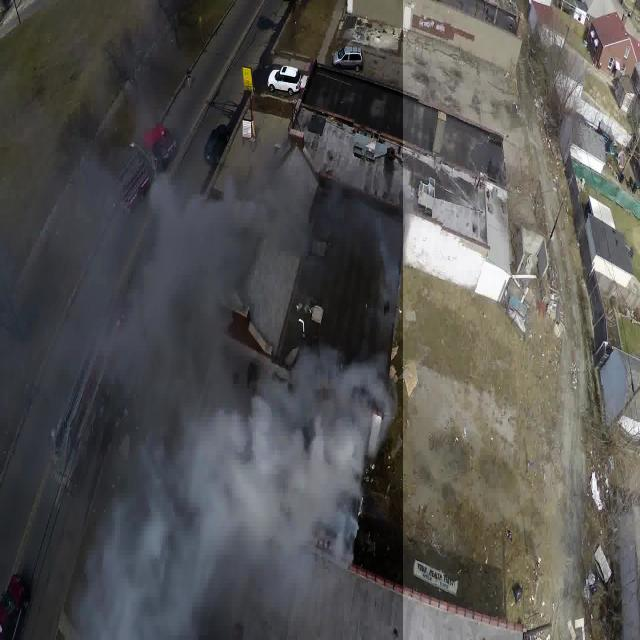Smoke: (0, 0, 403, 640)
